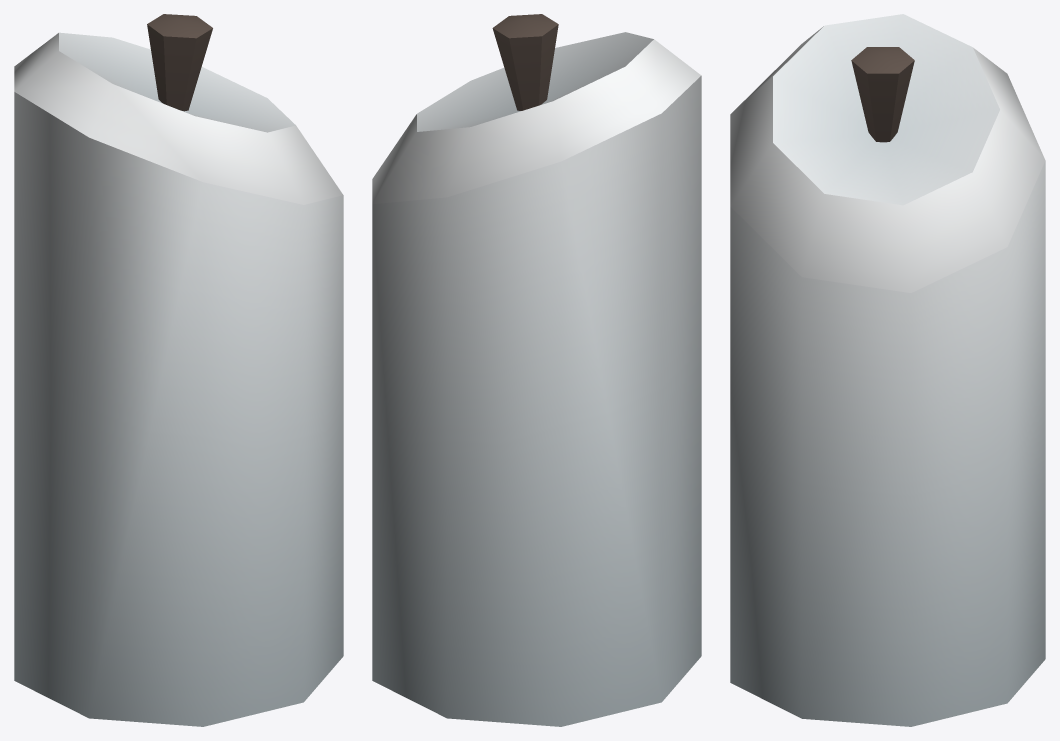
Rendered from Candle Melted.glb.
3 views of the same model, side by side, from view 1: azimuth 30°, elevation 25°; view 2: azimuth 150°, elevation 25°; view 3: azimuth 270°, elevation 25° (orthographic). The views are drawn at different scales.
Parts seen in each view (by area): view 1: candle_melted; view 2: candle_melted; view 3: candle_melted.
Part boxes in pixels (x1,y1,x2,y2): candle_melted: [14, 14, 343, 726]; candle_melted: [372, 14, 701, 726]; candle_melted: [730, 14, 1045, 726].
Bounding box in the file's own units: 0.3009 × 0.6314 × 0.2964.
1 material, 1 textured.
